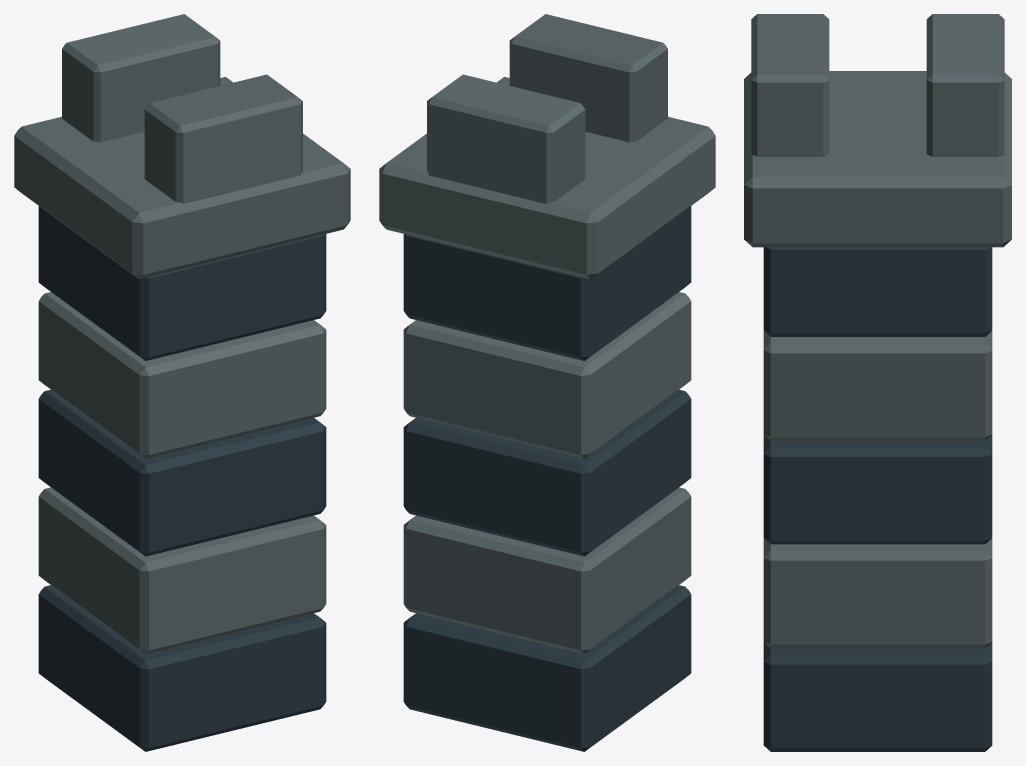
The model's file is WallPost.fbx.
The picture shows the model from 3 angles, left to right: view 1: azimuth 30°, elevation 25°; view 2: azimuth 150°, elevation 25°; view 3: azimuth 270°, elevation 25°; orthographic projection. The views are drawn at different scales.
Parts seen in each view (by area): view 1: WallPost_Mesh; view 2: WallPost_Mesh; view 3: WallPost_Mesh.
Boxes of the visible parts, x1,y1,x2,y2 form: WallPost_Mesh: (14,14,350,751); WallPost_Mesh: (379,14,715,751); WallPost_Mesh: (744,14,1011,751).
Bounding box in the file's own units: 0.55 × 1.5 × 0.55.
